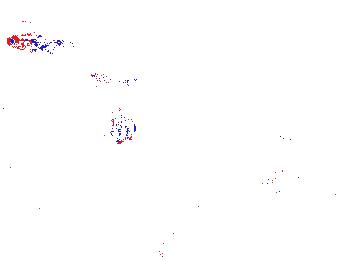X-ray fish: (258, 167, 303, 196), (157, 232, 179, 260), (276, 131, 295, 148)
red belly glassfish: (8, 33, 59, 51), (91, 70, 134, 88)
redtail glassfish: (104, 113, 136, 140)
